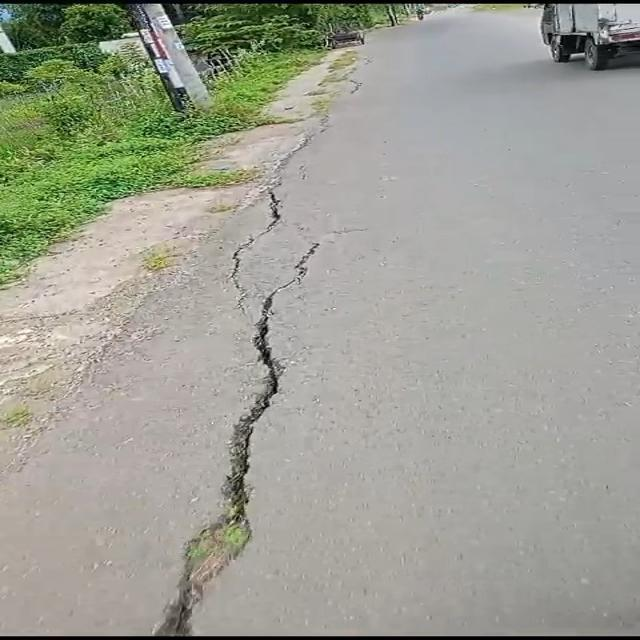Memanjang: (141, 236, 333, 640)
